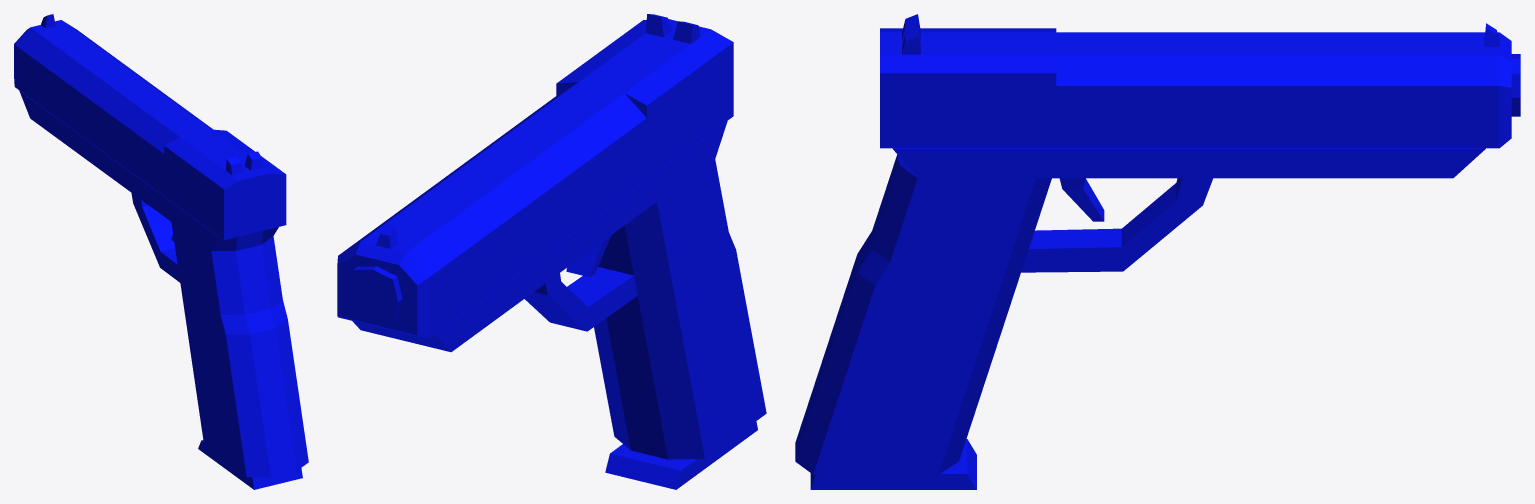
Rendered from pistol_model.glb.
3 renders of one model, left to right at view 1: azimuth 30°, elevation 25°; view 2: azimuth 150°, elevation 25°; view 3: azimuth 270°, elevation 25°, orthographic. The views are drawn at different scales.
Visible parts, largest first — view 1: Pistol; view 2: Pistol; view 3: Pistol.
Part boxes in pixels (x1,y1,x2,y2): Pistol: [14, 14, 308, 489]; Pistol: [337, 14, 766, 489]; Pistol: [795, 14, 1520, 489].
Bounding box in the file's own units: 0.4359 × 2.03 × 2.98.
